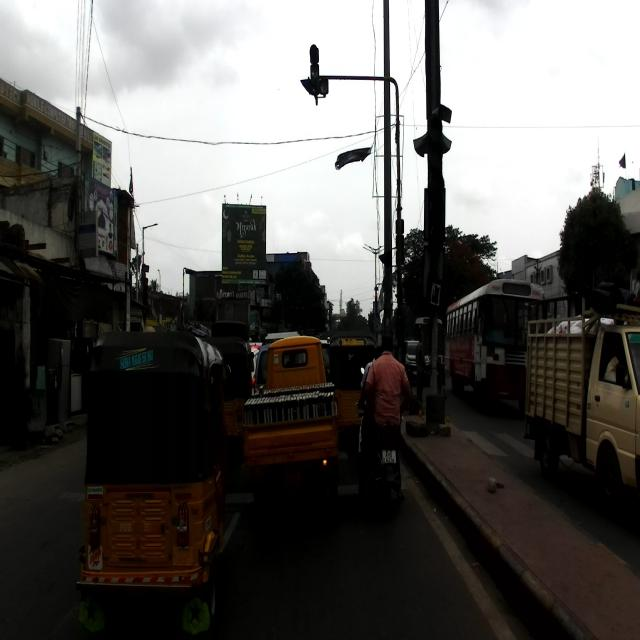autorickshaw: (72, 330, 234, 639), (243, 332, 341, 509), (203, 334, 253, 470), (329, 332, 378, 451)
bus: (442, 277, 546, 415)
truck: (522, 285, 640, 515)
